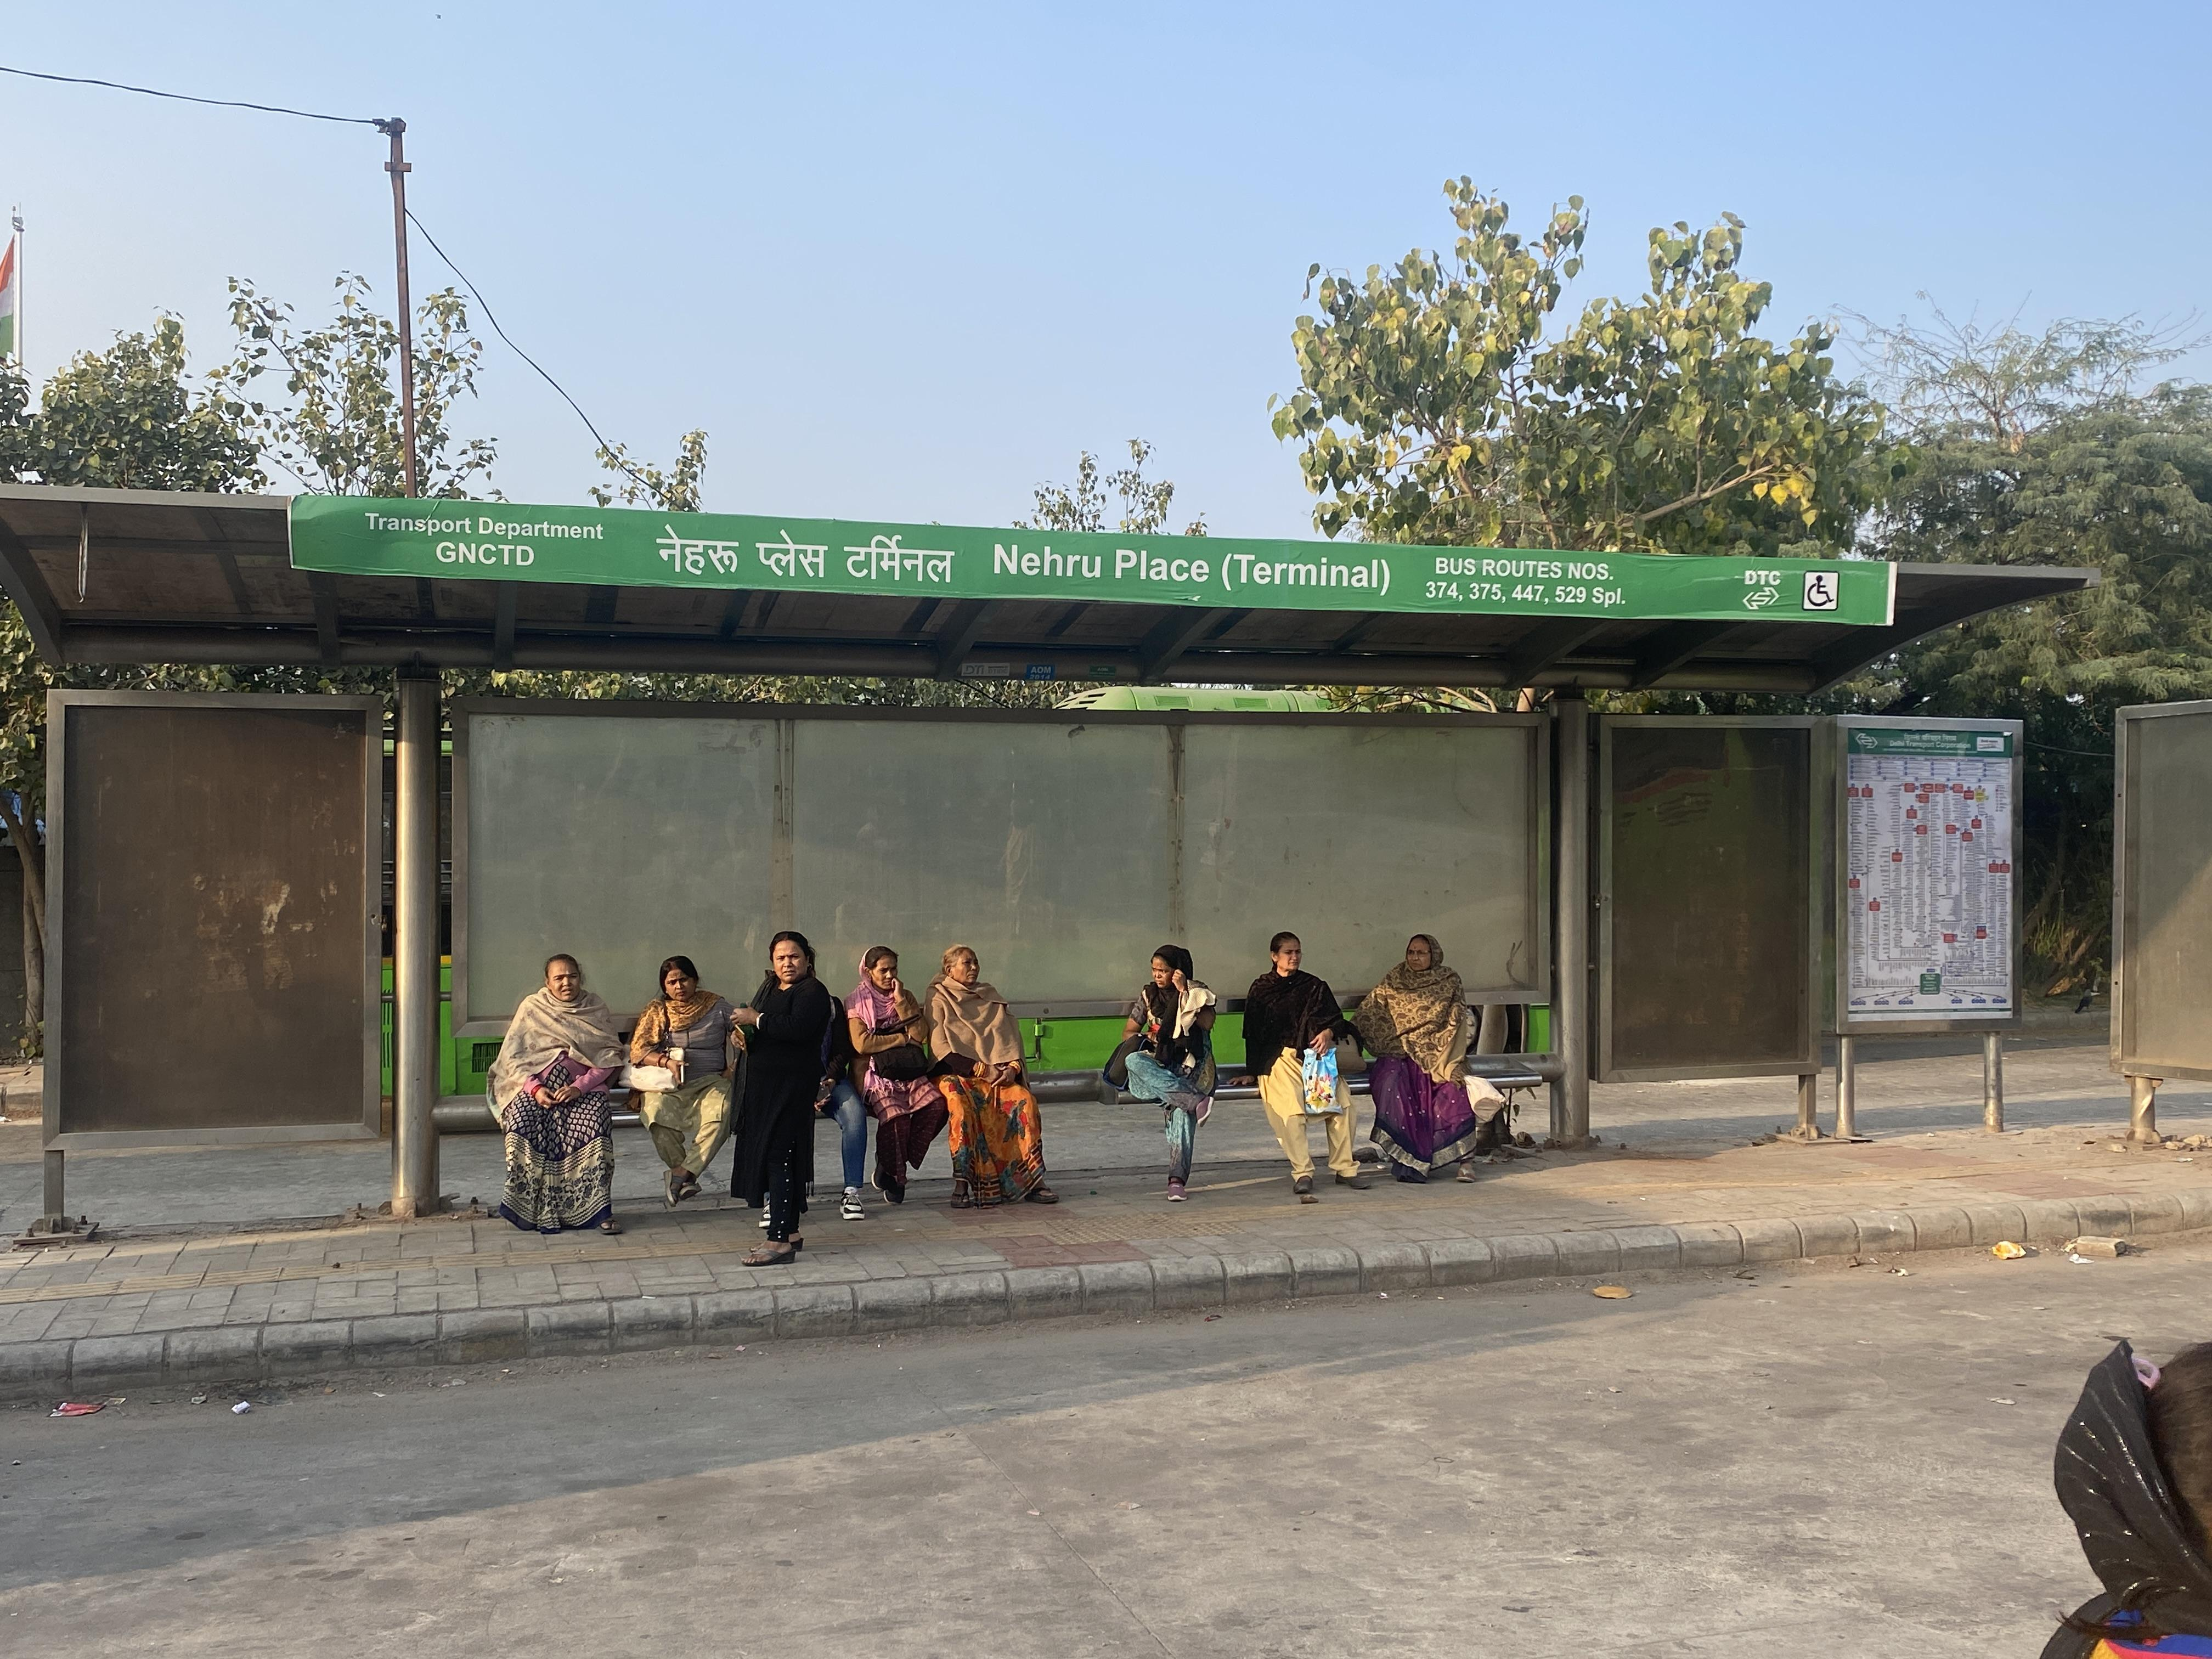Bus-stop-board: (268, 477, 1932, 664)
